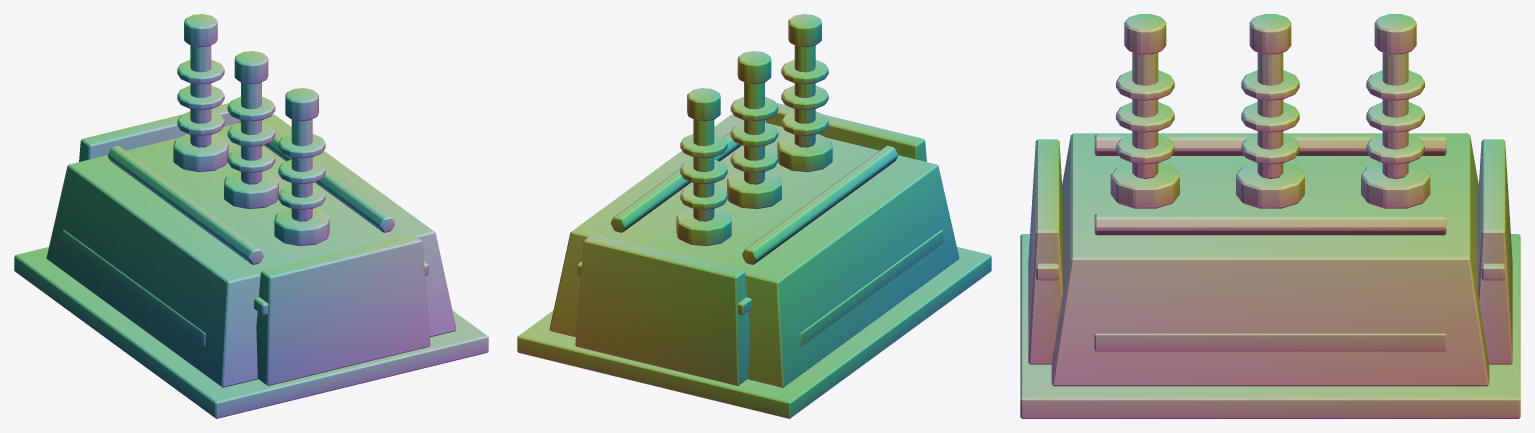
File: module_energy_rig.glb
3 views of the same model, side by side, from view 1: azimuth 30°, elevation 25°; view 2: azimuth 150°, elevation 25°; view 3: azimuth 270°, elevation 25° (orthographic). The views are drawn at different scales.
Parts seen in each view (by area): view 1: body; view 2: body; view 3: body.
Boxes of the visible parts, x1=… form: body: x1=14, y1=14, x2=488, y2=418; body: x1=517, y1=14, x2=991, y2=418; body: x1=1020, y1=14, x2=1520, y2=418.
Size of the model in its own units: 10 by 8.9 by 12.8.
